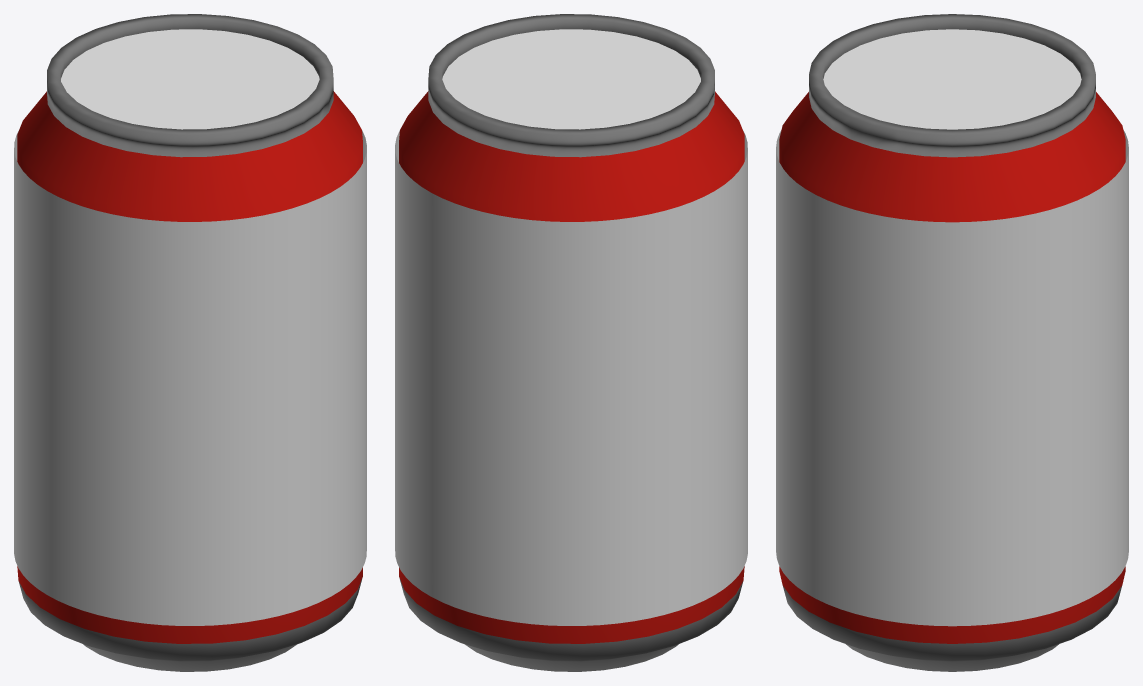
File: can 1.fbx
3 renders of one model, left to right at view 1: azimuth 30°, elevation 25°; view 2: azimuth 150°, elevation 25°; view 3: azimuth 270°, elevation 25°, orthographic.
Parts seen in each view (by area): view 1: Circle.001, Circle.002, Circle.000, Circle.003; view 2: Circle.001, Circle.002, Circle.000, Circle.003; view 3: Circle.001, Circle.002, Circle.000, Circle.003.
Part boxes in pixels (x1,y1,x2,y2): Circle.001: (14,129,366,625); Circle.002: (17,91,362,671); Circle.000: (61,29,319,129); Circle.003: (47,14,333,157); Circle.001: (395,129,747,625); Circle.002: (399,91,744,671); Circle.000: (442,29,700,129); Circle.003: (428,14,714,157); Circle.001: (776,130,1128,626); Circle.002: (779,92,1125,671); Circle.000: (823,29,1081,129); Circle.003: (809,14,1095,157).
Size of the model in its own units: 271 by 463 by 271.
